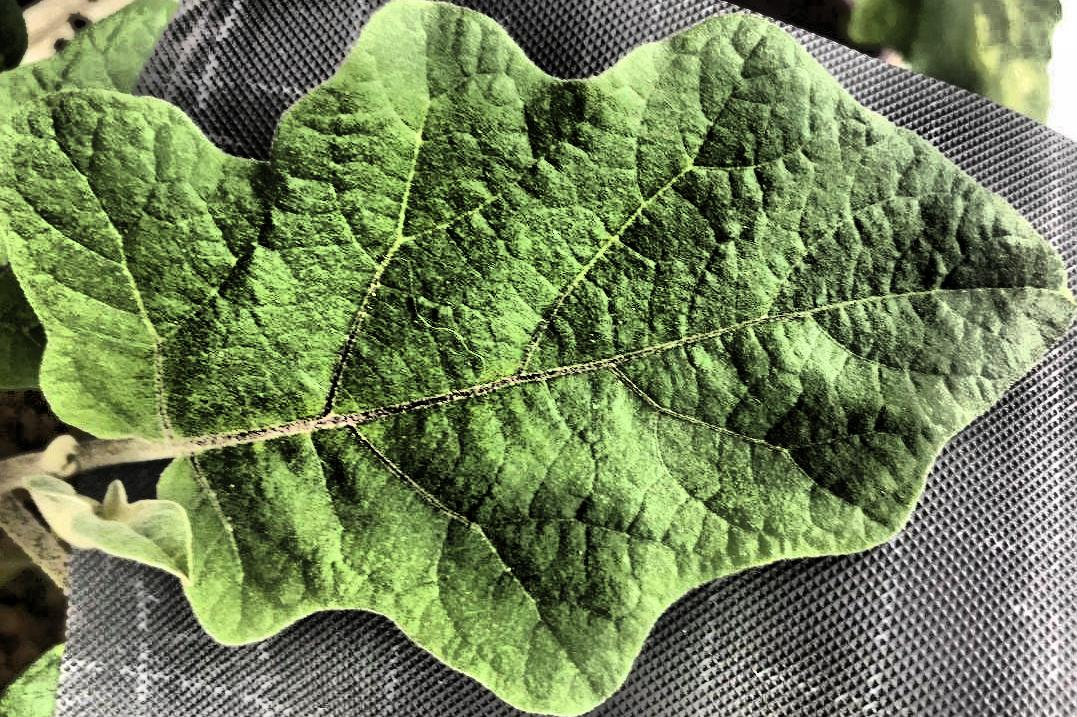HEALTHY: (1, 1, 1077, 717)
